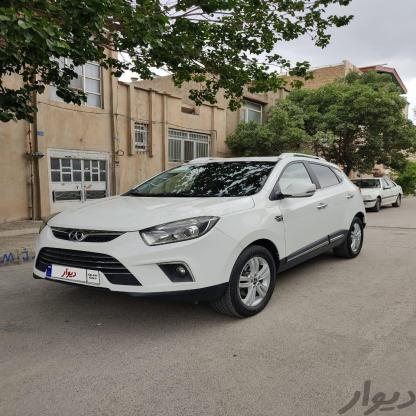Car: (20, 153, 384, 320), (342, 174, 402, 214)
